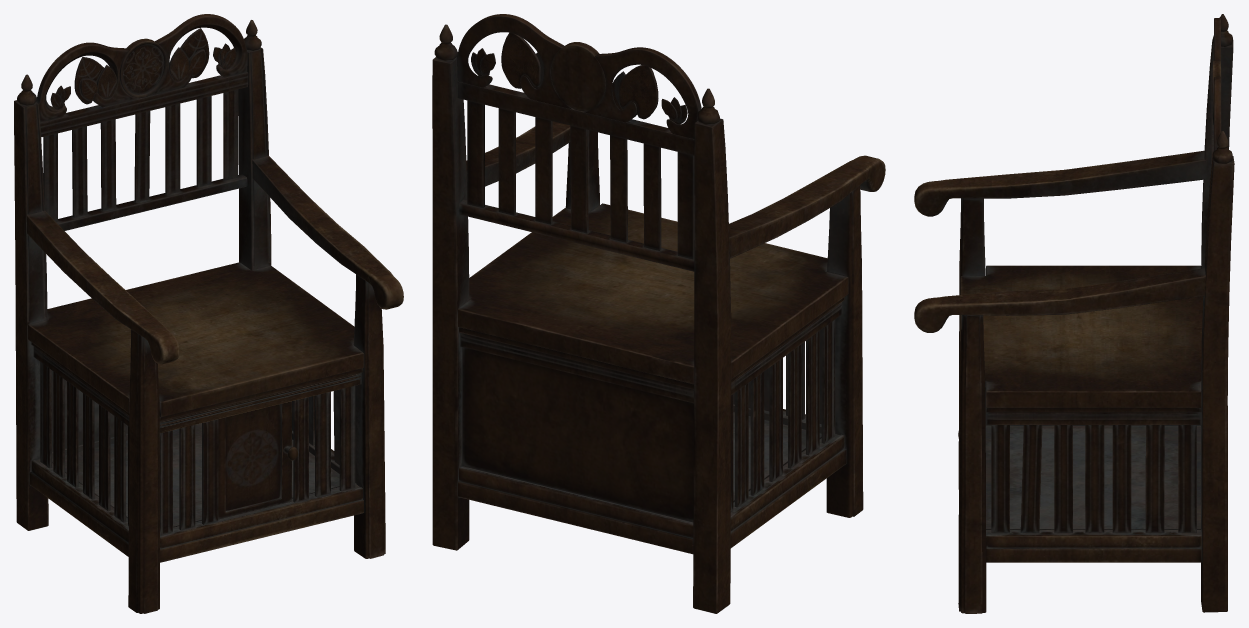
File: gallinera_chair_1k.gltf
The picture shows the model from 3 angles, left to right: view 1: azimuth 30°, elevation 25°; view 2: azimuth 150°, elevation 25°; view 3: azimuth 270°, elevation 25°; orthographic projection. The views are drawn at different scales.
Visible parts, largest first — view 1: gallinera_chair; view 2: gallinera_chair; view 3: gallinera_chair.
Part boxes in pixels (x1=…): gallinera_chair: x1=14, y1=14, x2=403, y2=613; gallinera_chair: x1=432, y1=14, x2=885, y2=613; gallinera_chair: x1=914, y1=14, x2=1234, y2=613.
Bounding box in the file's own units: 0.5808 × 1.03 × 0.6039.
1 material, 1 textured.
